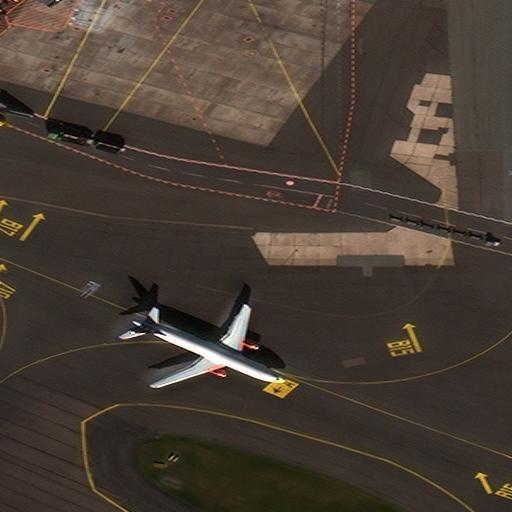Medium Civil Transport: (131, 309, 283, 389)
